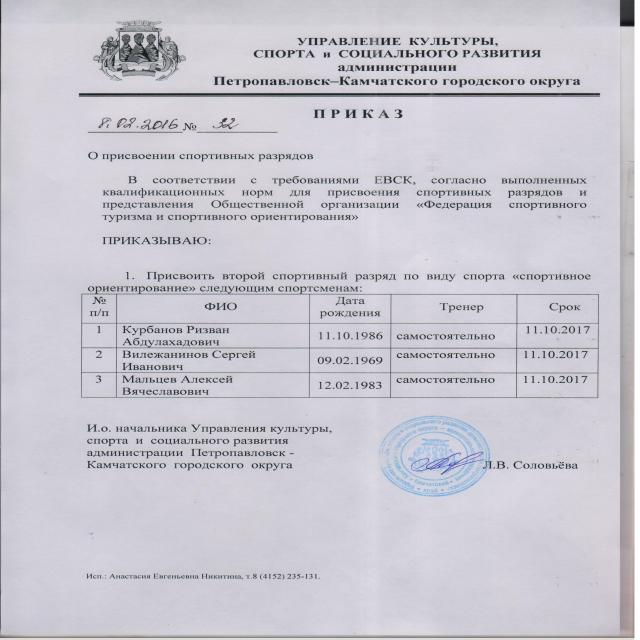stamps: (359, 409, 515, 523)
